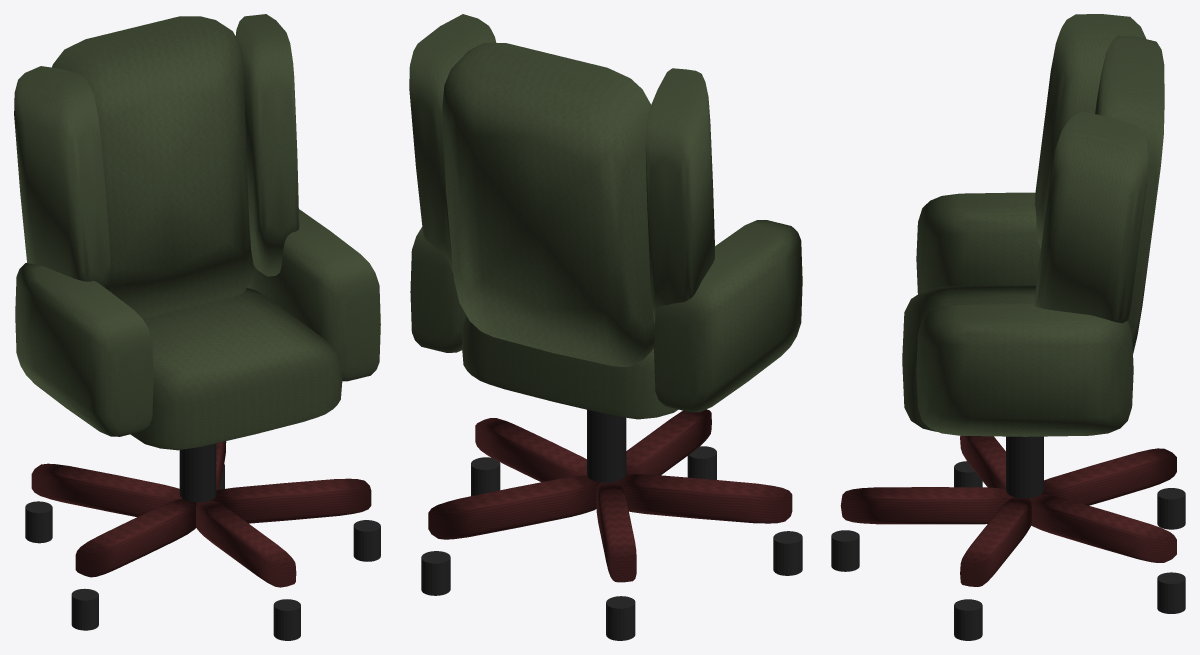
The picture shows the model from 3 angles, left to right: view 1: azimuth 30°, elevation 25°; view 2: azimuth 150°, elevation 25°; view 3: azimuth 270°, elevation 25°; orthographic projection. The views are drawn at different scales.
Parts seen in each view (by area): view 1: 2 backrest, 1 seat, 5 left_armrest, 3 left_wing, 4 right_wing, 6 right_armrest, 9 base_spoke_2, 11 base_spoke_4, 12 base_spoke_5, 8 base_spoke_1, 7 gas_lift, 14 wheel_2 (+3 smaller); view 2: 2 backrest, 5 left_armrest, 3 left_wing, 1 seat, 4 right_wing, 10 base_spoke_3, 12 base_spoke_5, 6 right_armrest, 9 base_spoke_2, 8 base_spoke_1, 11 base_spoke_4, 7 gas_lift (+5 smaller); view 3: 6 right_armrest, 4 right_wing, 5 left_armrest, 2 backrest, 3 left_wing, 8 base_spoke_1, 10 base_spoke_3, 11 base_spoke_4, 1 seat, 9 base_spoke_2, 7 gas_lift, 12 base_spoke_5 (+5 smaller).
Boxes of the visible parts, x1,y1,x2,y2 form: 2 backrest: (52,16,255,318); 1 seat: (130,288,342,450); 5 left_armrest: (15,263,153,436); 3 left_wing: (14,66,112,292); 4 right_wing: (235,14,299,276); 6 right_armrest: (247,209,380,381); 9 base_spoke_2: (210,478,371,523); 11 base_spoke_4: (31,463,182,516); 12 base_spoke_5: (75,499,196,577); 8 base_spoke_1: (196,500,296,587); 7 gas_lift: (179,443,216,502); 14 wheel_2: (353,520,380,561); 2 backrest: (442,42,654,367); 5 left_armrest: (654,220,802,412); 3 left_wing: (645,68,714,323); 1 seat: (462,316,678,419); 4 right_wing: (409,14,496,273); 10 base_spoke_3: (428,475,600,539); 12 base_spoke_5: (613,474,792,523); 6 right_armrest: (410,227,466,352); 9 base_spoke_2: (475,418,603,482); 8 base_spoke_1: (626,409,711,475); 11 base_spoke_4: (596,482,636,582); 7 gas_lift: (587,409,626,482); 6 right_armrest: (916,304,1133,436); 4 right_wing: (1034,111,1148,323); 5 left_armrest: (916,192,1040,293); 2 backrest: (1095,35,1164,353); 3 left_wing: (1034,14,1146,248); 8 base_spoke_1: (840,487,1014,524); 10 base_spoke_3: (1029,494,1176,562); 11 base_spoke_4: (1027,448,1176,505); 1 seat: (902,285,1036,431); 9 base_spoke_2: (960,497,1031,586); 7 gas_lift: (1006,436,1043,498); 12 base_spoke_5: (960,435,1026,498).
Bounding box in the file's own units: 0.64 × 1 × 0.64.
4 materials, 2 textured.
